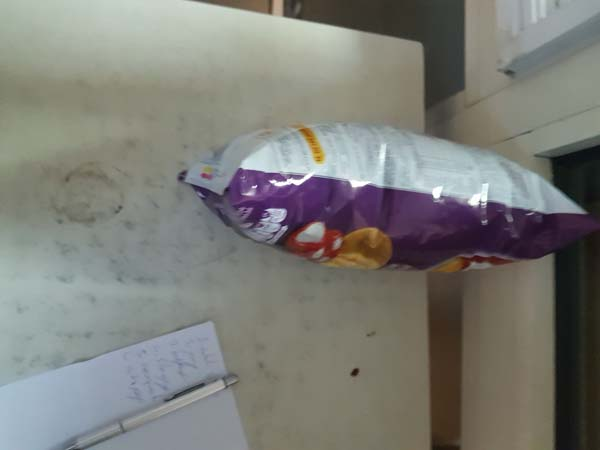layspeynirsoslu: (177, 113, 596, 313)
